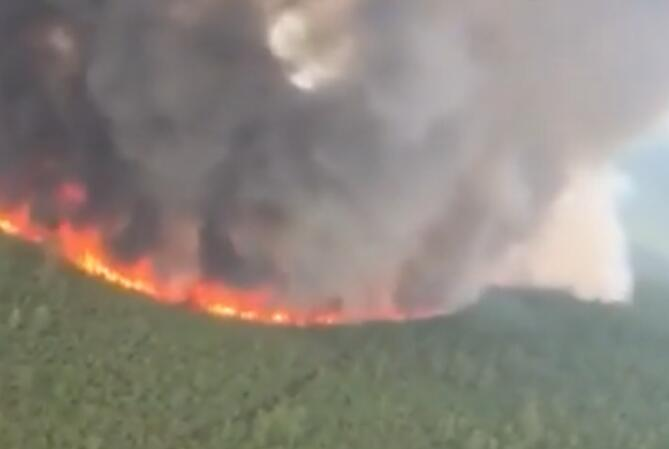fire: (1, 182, 154, 291), (158, 282, 447, 326)
yanwu: (0, 0, 668, 311)
